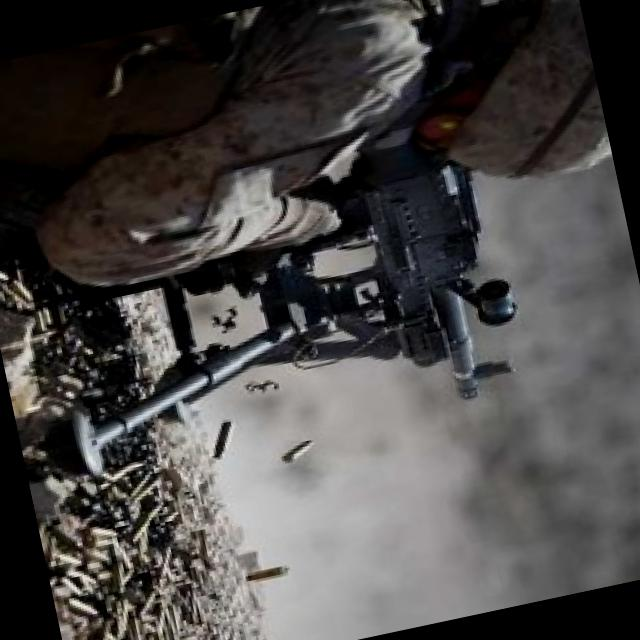long weapon: (266, 124, 546, 479)
